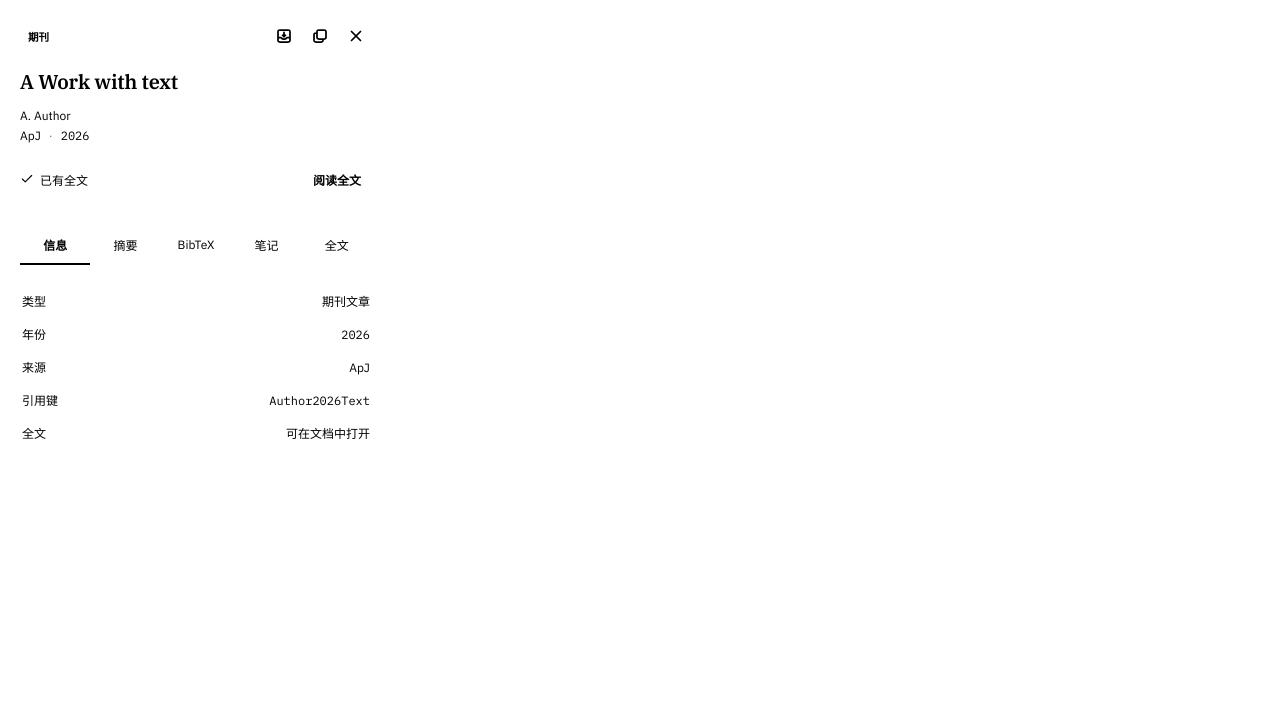
Test: RefDetail text Docs (ticket 25) › delete confirmation count for a text Doc › an annotations directory that exists for a draft is an unknown count, never zero
Click the tab "全文": [337, 246] box [302,227,372,265]
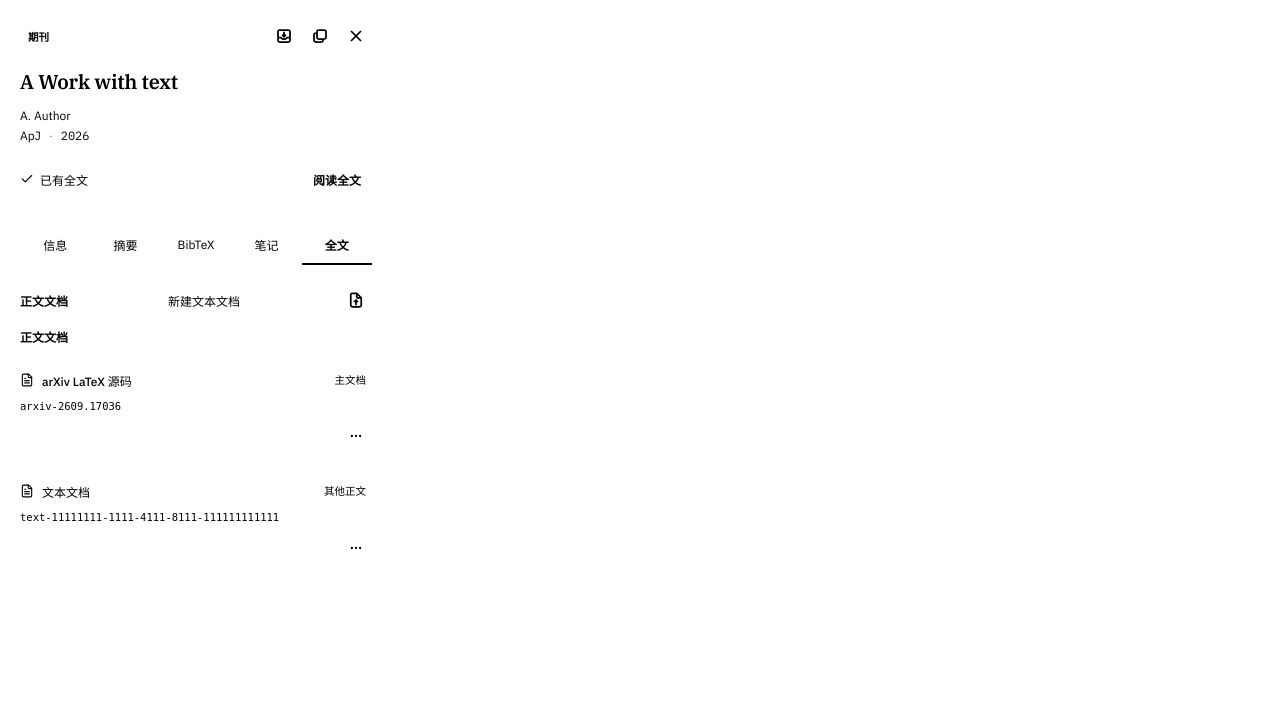
Check: the text "文本文档" is shown, box [42,483,90,500]
Click the heading named "文档操作" below "其他正文": [356, 548] box [349,540,363,554]
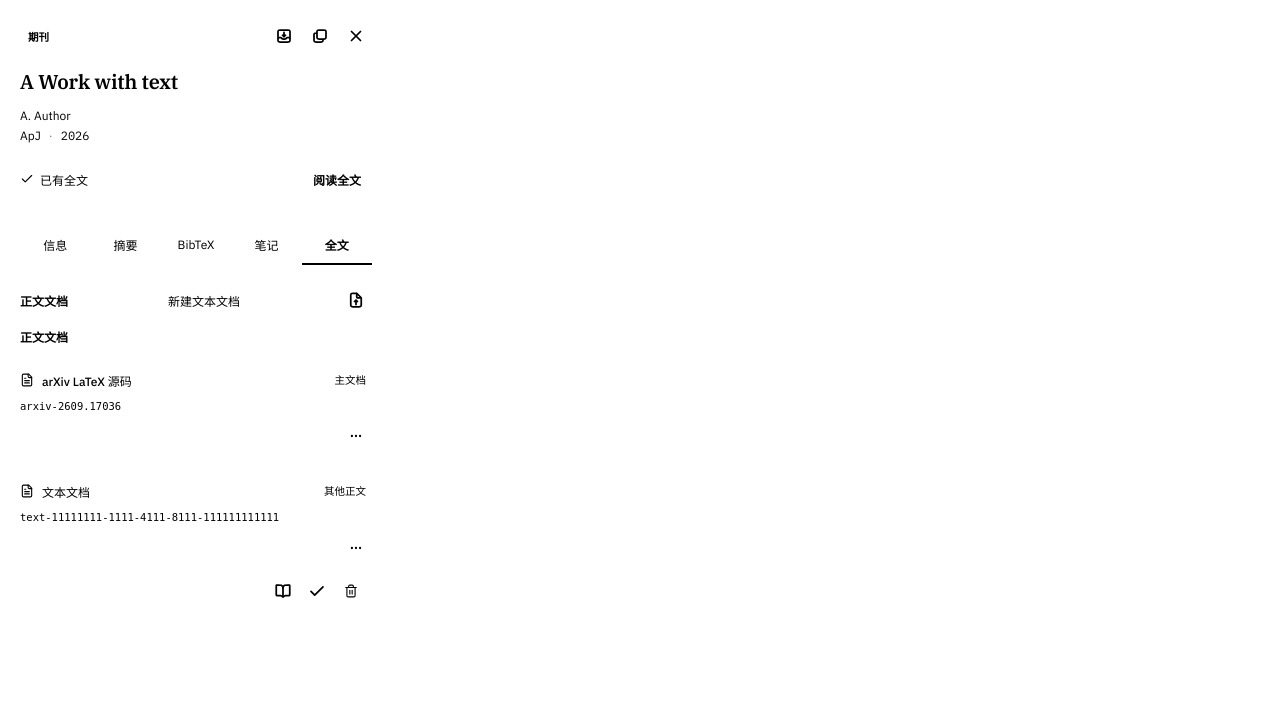
Click the button named "删除此文档（含其标注）": [351, 590] box [335,574,367,606]
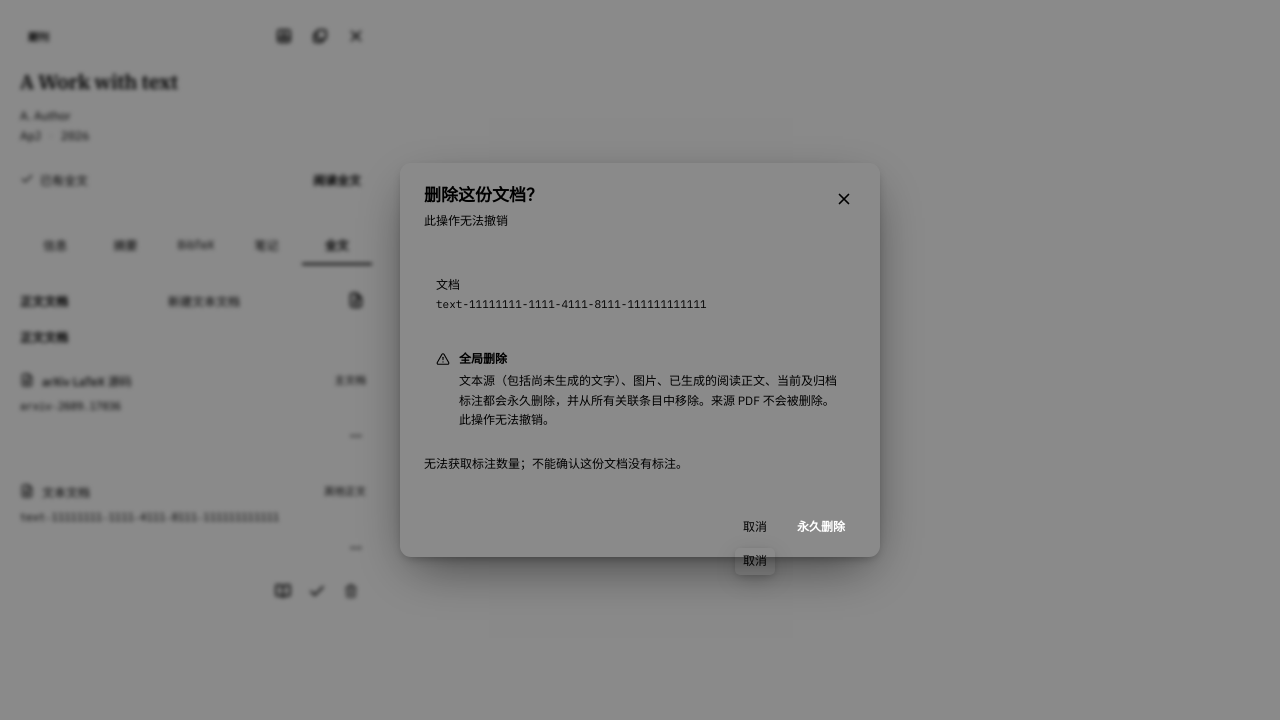
Check: the text "无法获取标注数量；不能确认这份文档没有标注。" is shown, box [424,456,688,471]
